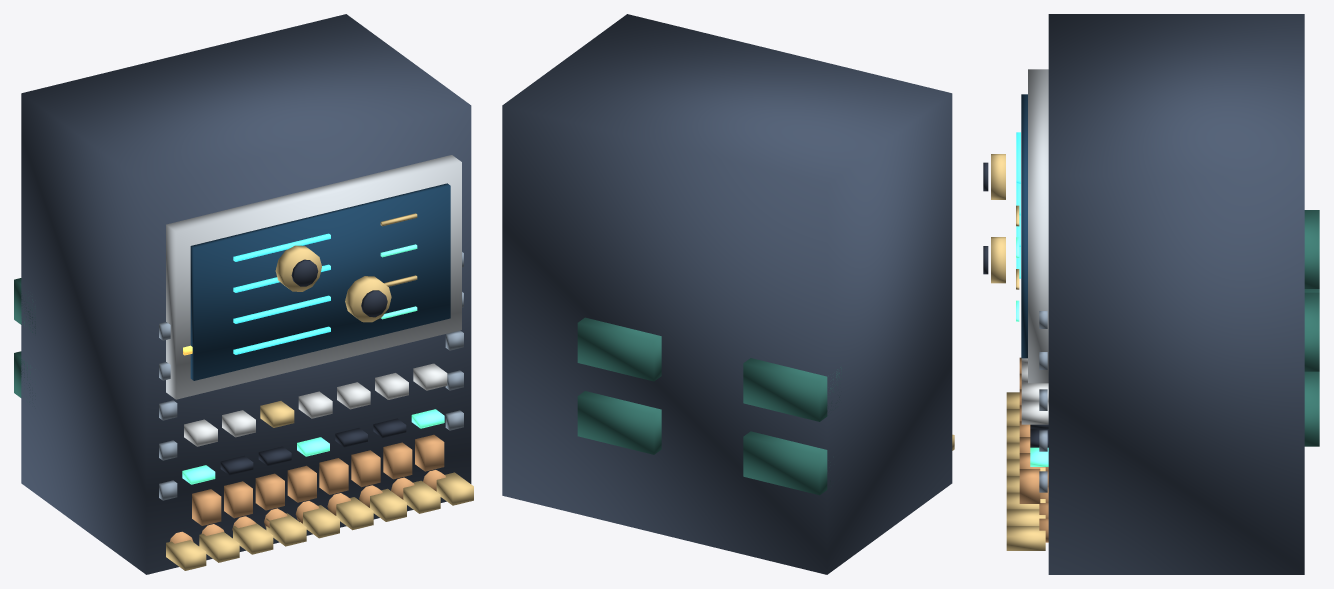
File: 75_L91_AutonomousFlightSafetyPLC.glb
The picture shows the model from 3 angles, left to right: view 1: azimuth 30°, elevation 25°; view 2: azimuth 150°, elevation 25°; view 3: azimuth 270°, elevation 25°; orthographic projection. The views are drawn at different scales.
Visible parts, largest first — view 1: L91_AutonomousFlightSafetyPLC, L91_AutonomousFlightSafetyPLC_Part_0015, L91_AutonomousFlightSafetyPLC_Part_0013; view 2: L91_AutonomousFlightSafetyPLC; view 3: L91_AutonomousFlightSafetyPLC, L91_AutonomousFlightSafetyPLC_Part_0015, L91_AutonomousFlightSafetyPLC_Part_0013.
Part boxes in pixels (x1,y1,x2,y2): L91_AutonomousFlightSafetyPLC: (14,14,473,574); L91_AutonomousFlightSafetyPLC_Part_0015: (345,276,391,322); L91_AutonomousFlightSafetyPLC_Part_0013: (275,245,321,291); L91_AutonomousFlightSafetyPLC: (502,14,954,574); L91_AutonomousFlightSafetyPLC: (1006,14,1319,574); L91_AutonomousFlightSafetyPLC_Part_0015: (991,237,1005,283); L91_AutonomousFlightSafetyPLC_Part_0013: (991,154,1005,199).
Bounding box in the file's own units: 1.08 × 1.23 × 0.9429.
